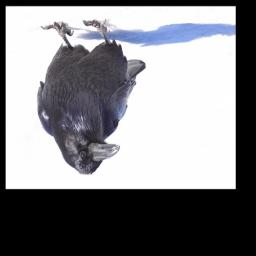Crow: (36, 18, 148, 177)
